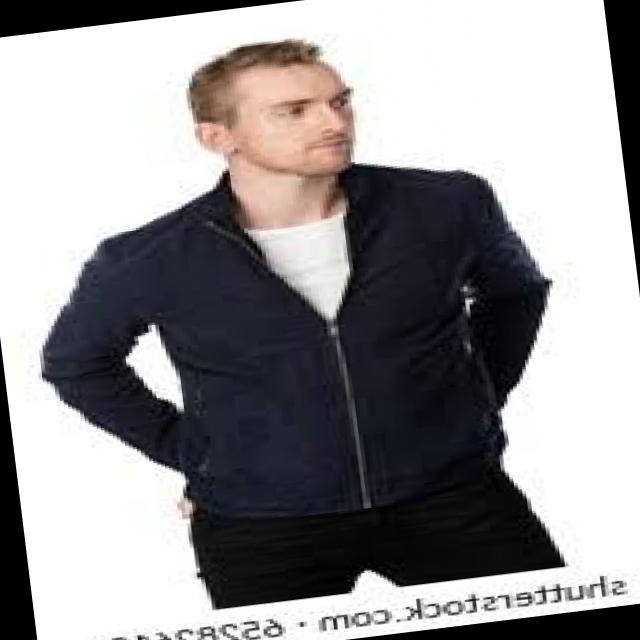Jacket: (47, 141, 554, 497)
